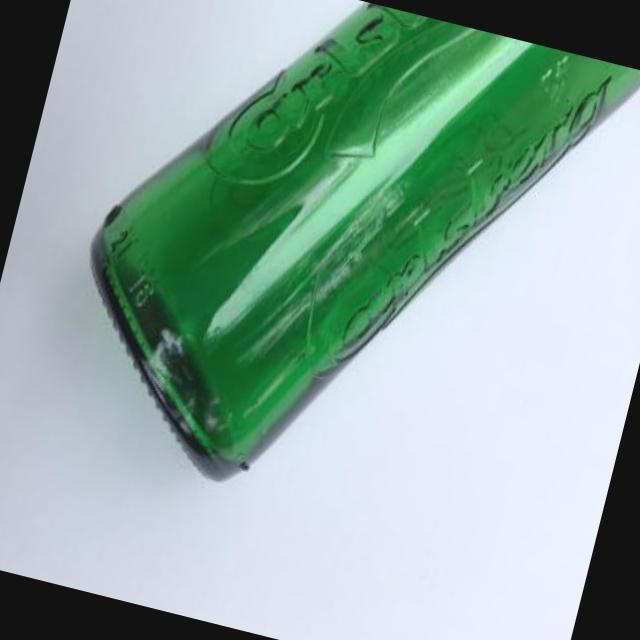chai_thuy_tinh: (89, 2, 640, 479)
